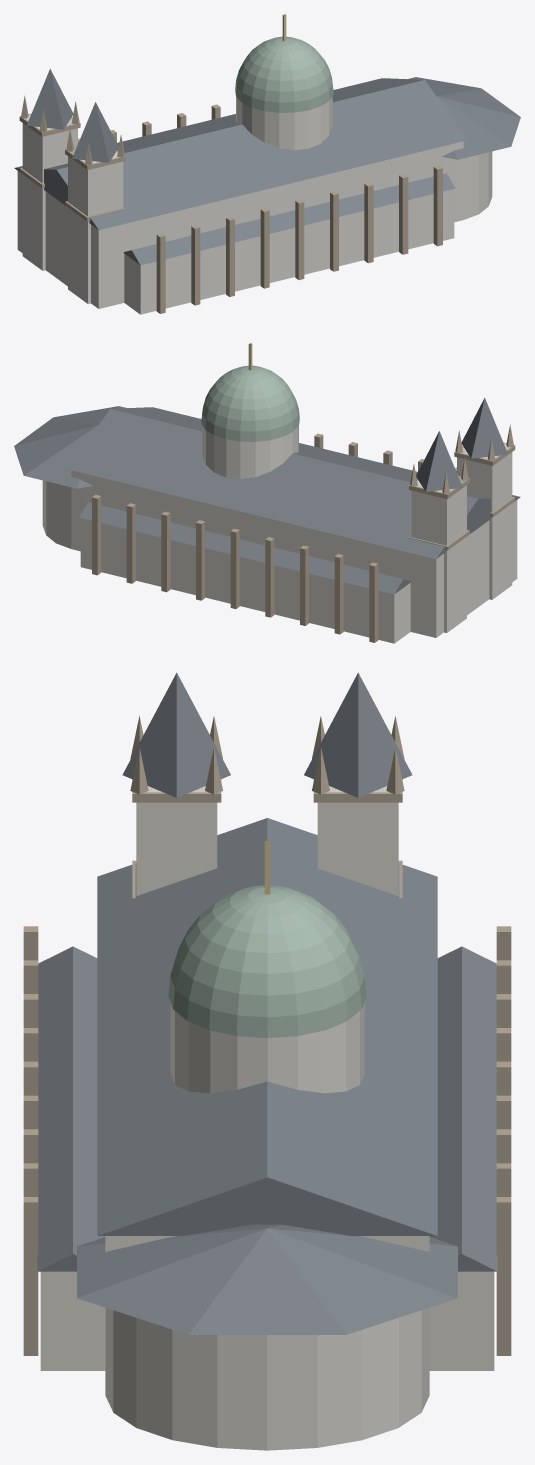
File: almudena.glb
3 views of the same model, one above another, from view 1: azimuth 30°, elevation 25°; view 2: azimuth 150°, elevation 25°; view 3: azimuth 270°, elevation 25° (orthographic). The views are drawn at different scales.
Size of the model in its own units: 129 by 57 by 60.2.
